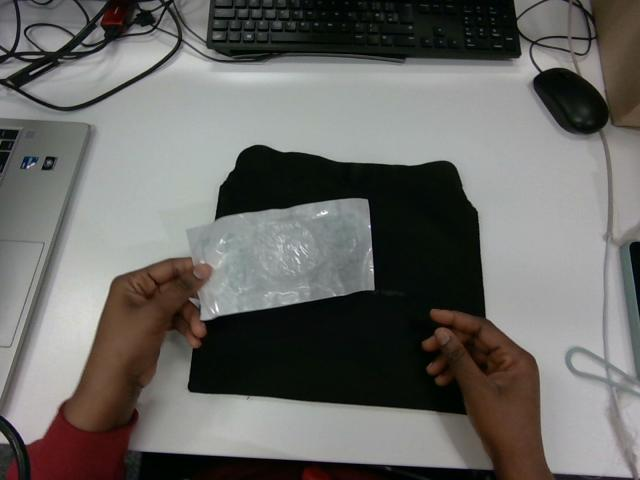gallipot: (187, 198, 374, 319)
